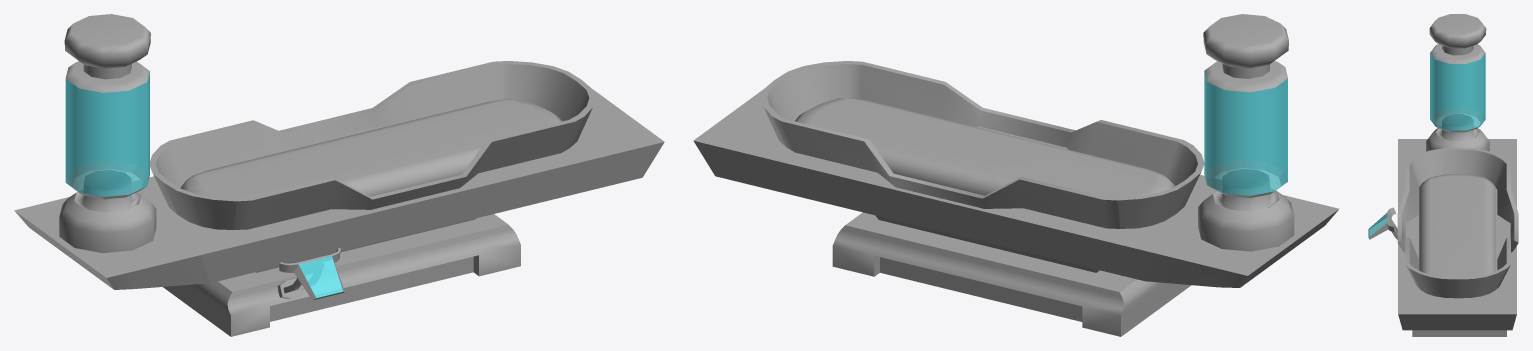
File: L1_RM3_Dissection Models with UVs.fbx
3 renders of one model, left to right at view 1: azimuth 30°, elevation 25°; view 2: azimuth 150°, elevation 25°; view 3: azimuth 270°, elevation 25°, orthographic. The views are drawn at different scales.
Visible parts, largest first — view 1: L1_RM3_dissection_table_base, L1_RM3_dissection_table; view 2: L1_RM3_dissection_table_base, L1_RM3_dissection_table; view 3: L1_RM3_dissection_table_base, L1_RM3_dissection_table.
Part boxes in pixels (<box>): L1_RM3_dissection_table_base: <box>14,61,664,336</box>; L1_RM3_dissection_table: <box>59,14,345,300</box>; L1_RM3_dissection_table_base: <box>693,61,1339,336</box>; L1_RM3_dissection_table: <box>1198,14,1294,251</box>; L1_RM3_dissection_table_base: <box>1397,139,1518,336</box>; L1_RM3_dissection_table: <box>1368,14,1489,239</box>.
Bounding box in the file's own units: 602 × 312 × 218.
